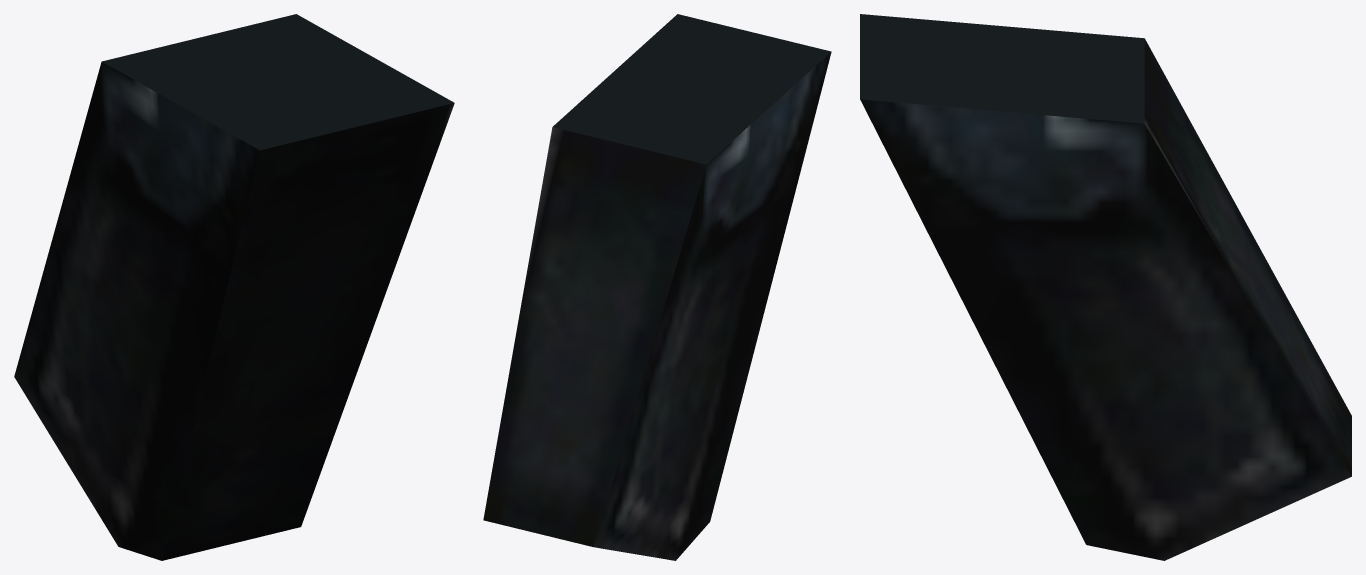
The model's file is gun02_reload.obj.
3 renders of one model, left to right at view 1: azimuth 30°, elevation 25°; view 2: azimuth 150°, elevation 25°; view 3: azimuth 270°, elevation 25°, orthographic. The views are drawn at different scales.
Parts seen in each view (by area): view 1: gun02_reload; view 2: gun02_reload; view 3: gun02_reload.
Part boxes in pixels (x1,y1,x2,y2): gun02_reload: (14,14,454,560); gun02_reload: (483,14,831,560); gun02_reload: (860,14,1351,560).
Size of the model in its own units: 0.0782 by 0.2022 by 0.1902.
1 material, 1 textured.
